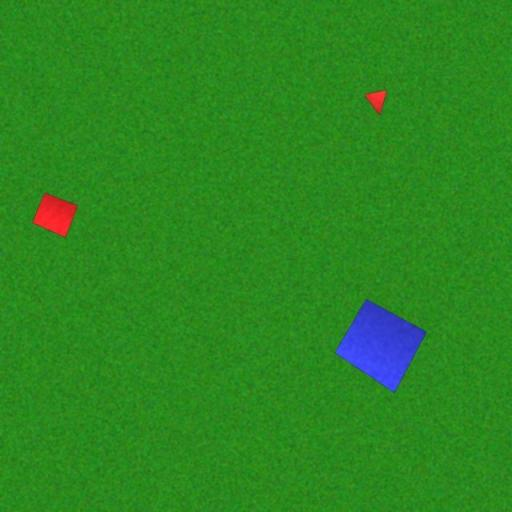BLUE_SQUARE: (334, 298, 427, 394)
RED_SQUARE: (32, 192, 78, 238)
